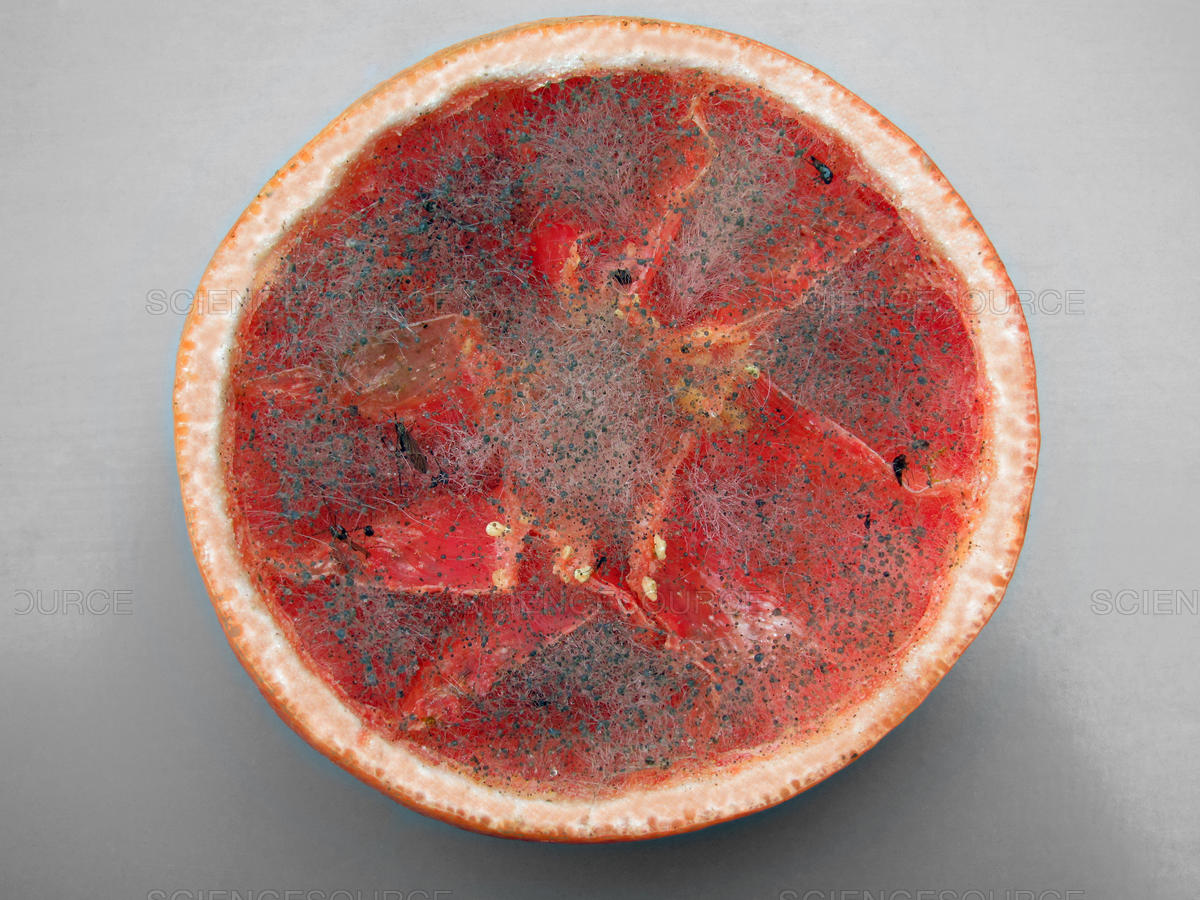damaged_grapefruit: (197, 33, 1038, 785)
